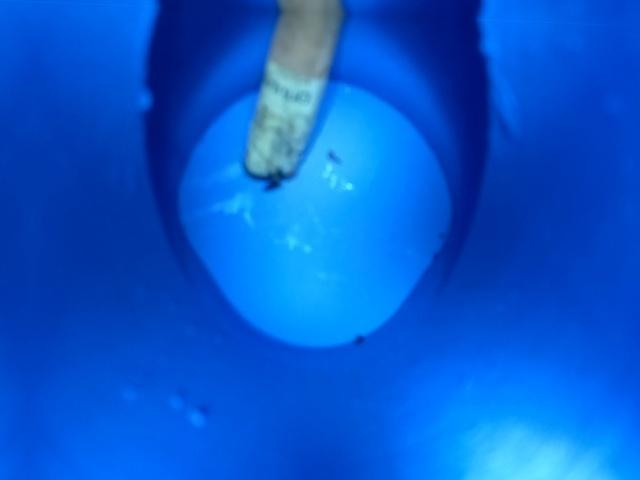megot: (223, 7, 352, 200)
